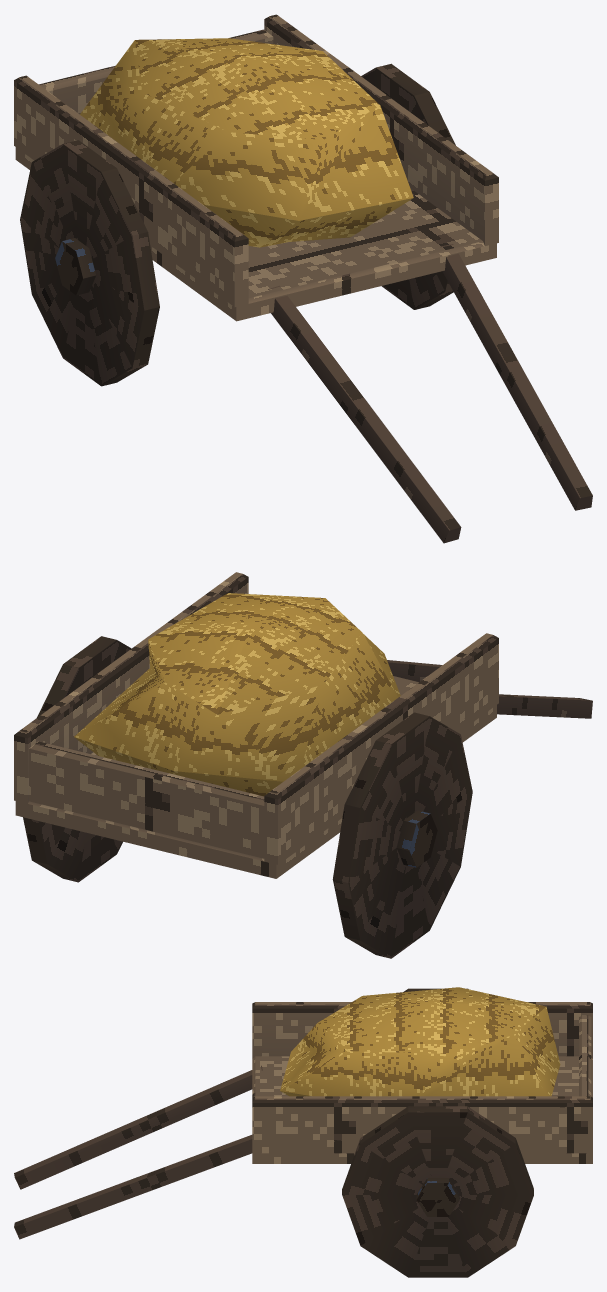
The model's file is mprop.cart.glb.
3 renders of one model, top to bottom at view 1: azimuth 30°, elevation 25°; view 2: azimuth 150°, elevation 25°; view 3: azimuth 270°, elevation 25°, orthographic. The views are drawn at different scales.
Visible parts, largest first — view 1: kit_bed, kit_load, kit_wheels; view 2: kit_bed, kit_load, kit_wheels; view 3: kit_bed, kit_wheels, kit_load.
Boxes of the visible parts, left/top/right/bottom form: kit_bed: left=14, top=14, right=592, bottom=543; kit_load: left=80, top=38, right=413, bottom=247; kit_wheels: left=20, top=63, right=455, bottom=386; kit_bed: left=14, top=572, right=592, bottom=878; kit_load: left=74, top=593, right=400, bottom=796; kit_wheels: left=23, top=636, right=472, bottom=958; kit_bed: left=14, top=1002, right=592, bottom=1239; kit_wheels: left=342, top=988, right=533, bottom=1277; kit_load: left=280, top=987, right=560, bottom=1096.
Bounding box in the file's own units: 2.04 × 1.52 × 3.74.
Materials: 5 (5 with a texture image).
